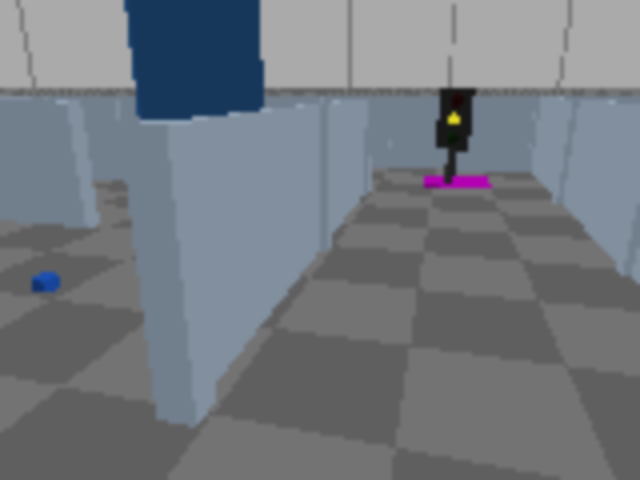goal_zone: (423, 174, 492, 190)
puck: (31, 271, 62, 295)
traffic_light: (433, 83, 475, 189)
